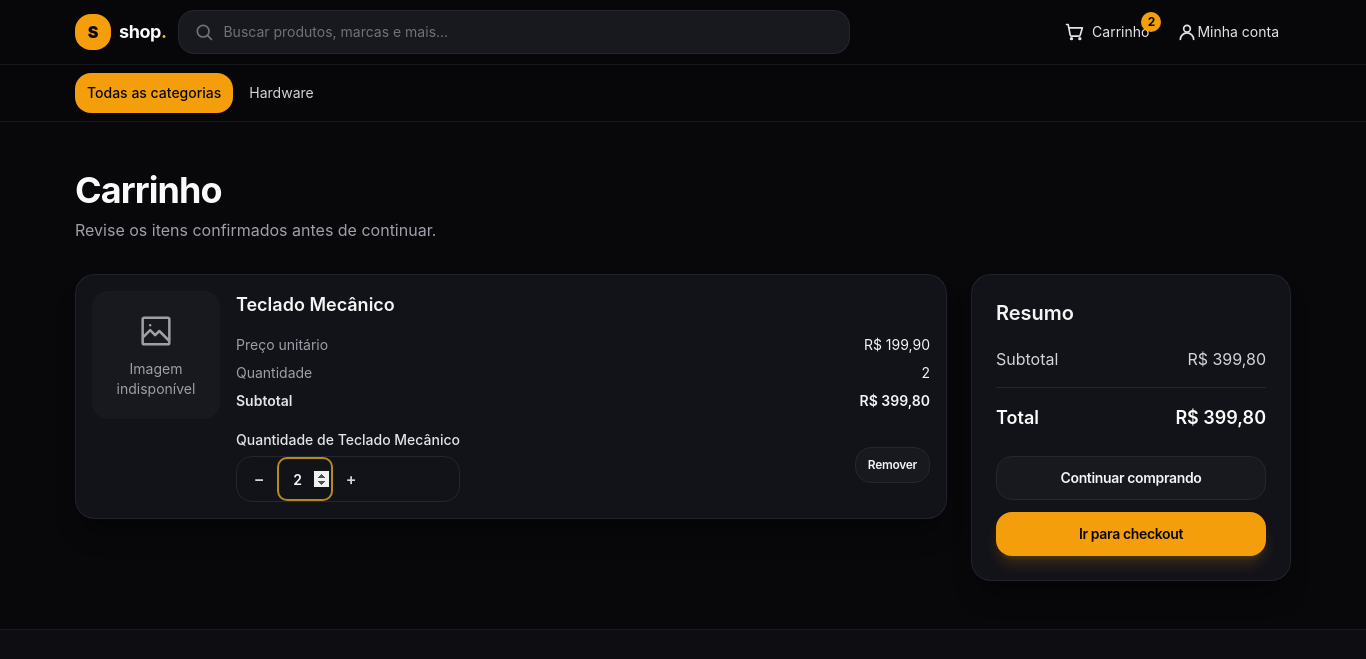
TASK-114 cart integration › sends strict PATCH and DELETE bodies and reconciles confirmed empty cart
Press Arrowup
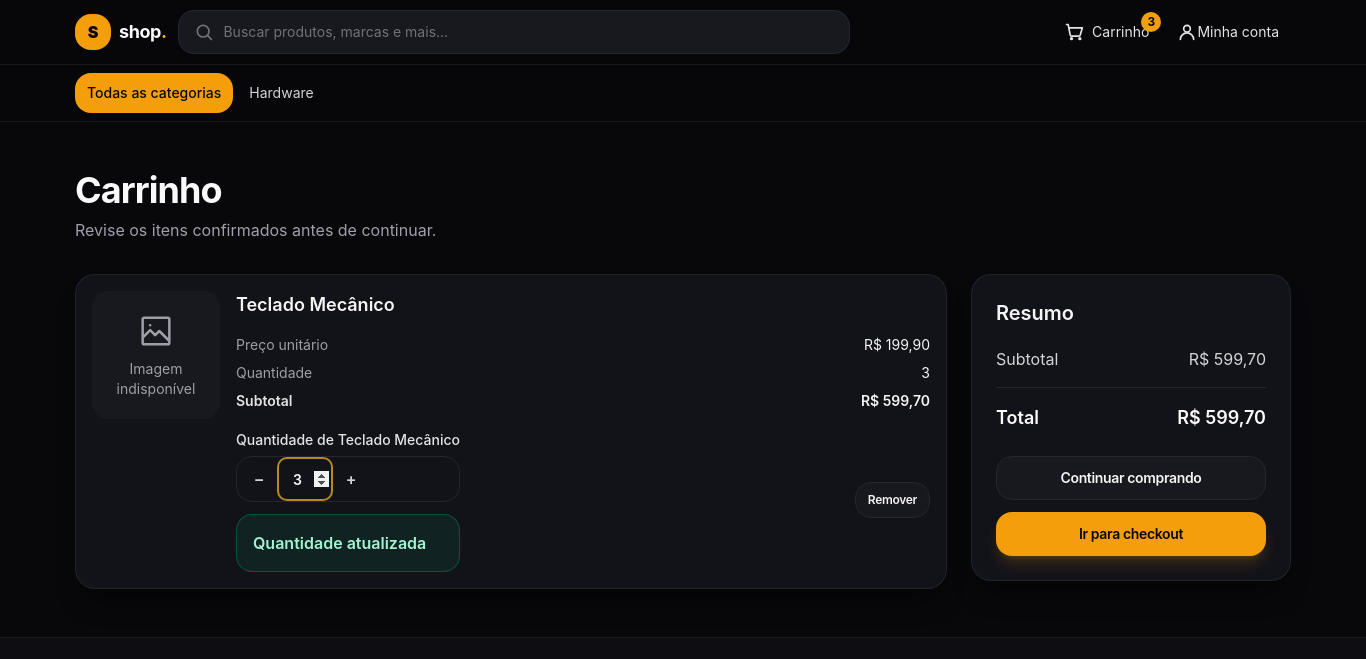
Expected: the 3rd text "R$ 599,70" is shown, 1177,404 -> 1266,432
Expected: the link with aria-label "Carrinho com 3 itens" is shown, 1052,12 -> 1161,52
Click the button with aria-label "Remover Teclado Mecânico" at (892, 500), box 855,482 -> 930,518
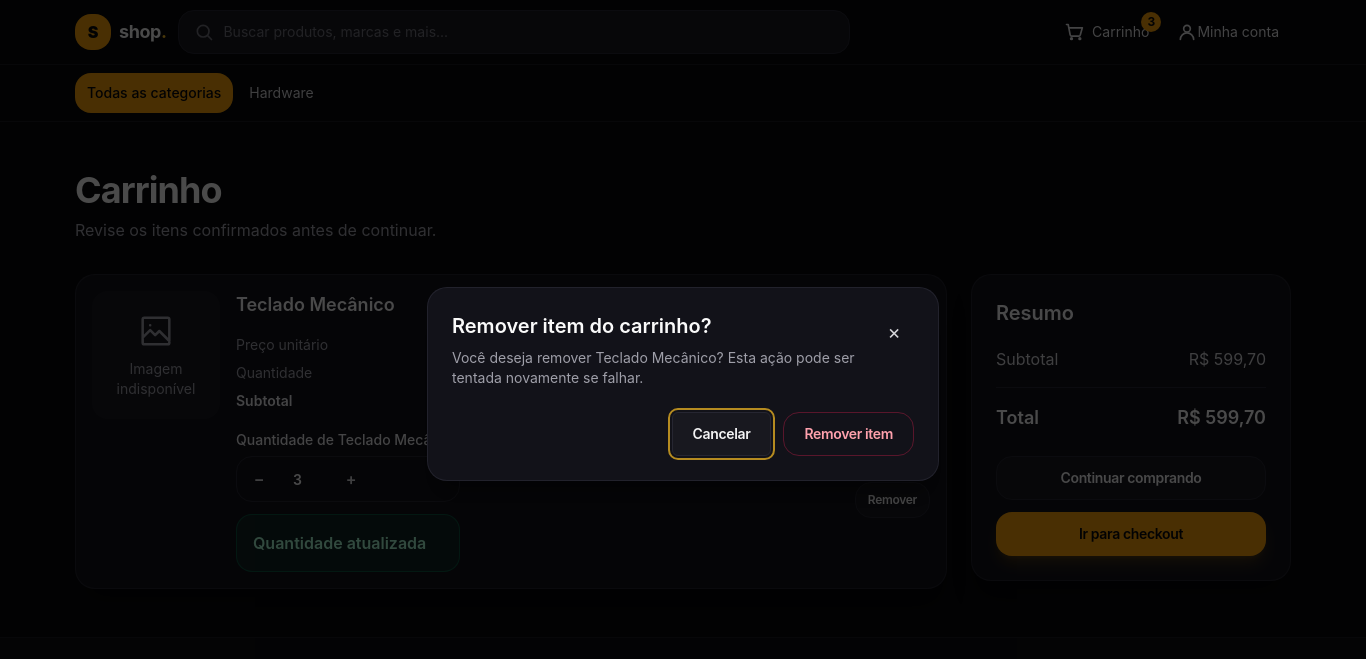
Click the button "Remover item" at (849, 434), box 783,412 -> 914,456
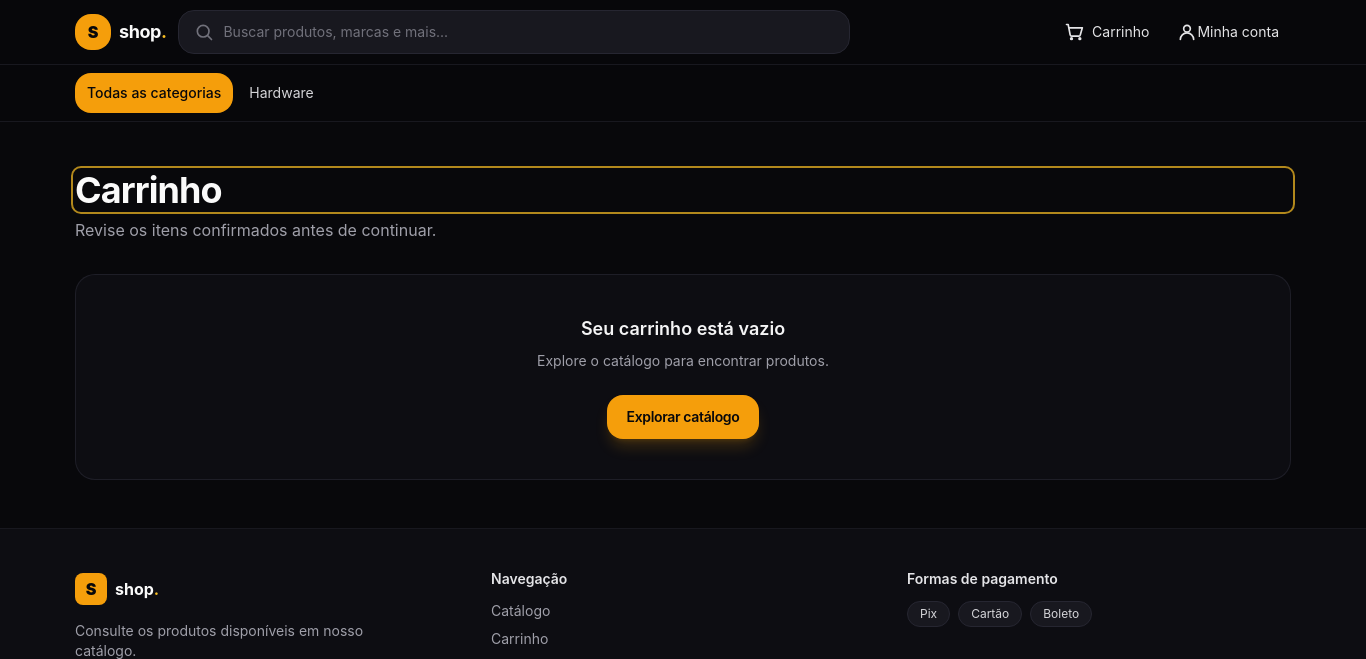
Expected: the 1st link "Carrinho" is shown, 1063,22 -> 1149,54
Expected: the heading "Seu carrinho está vazio" is shown, 581,315 -> 785,343
